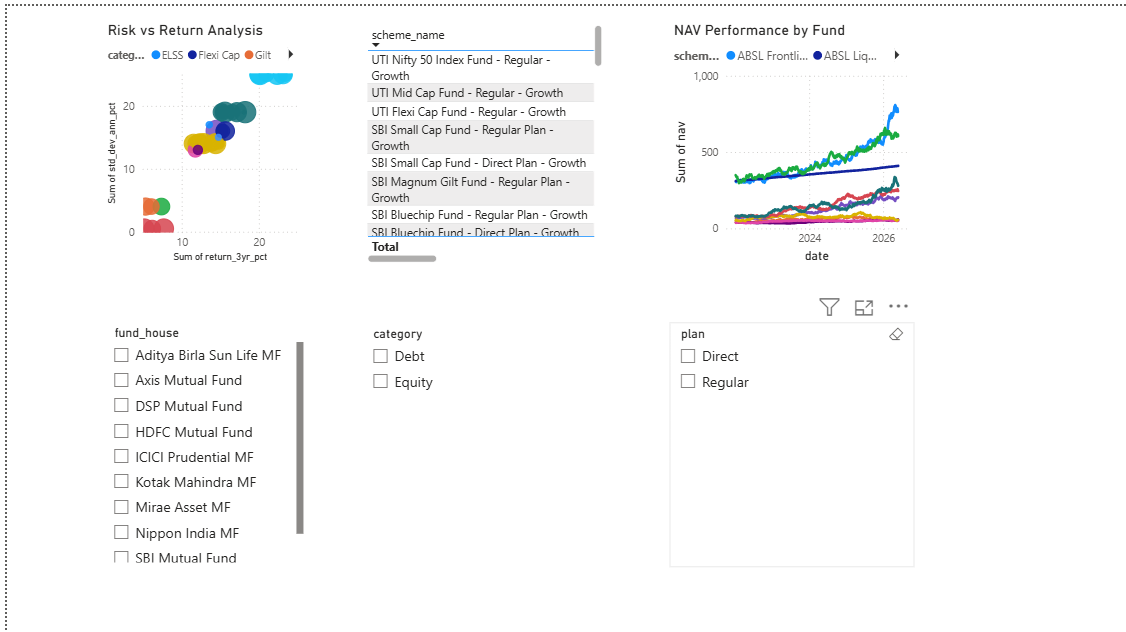

Layout of this report page (visuals, bound fields, positions):
{"tool":"powerbi","page":{"name":"Fund Performance","canvas":[1280,720],"ordinal":1},"visuals":[{"type":"tableEx","fields":{"Values":["07_scheme_performance_clean.scheme_name","07_scheme_performance_clean.fund_house","Sum(fund_scorecard.cagr_pct)","Sum(fund_scorecard.sharpe_ratio)","Sum(fund_scorecard.alpha)","Sum(fund_scorecard.fund_score)"]},"box":[406.1,17.7,279.6,280.8],"z":0},{"type":"lineChart","title":"NAV Performance by Fund","fields":{"Category":["02_nav_history_clean.date"],"Y":["Sum(02_nav_history_clean.nav)"],"Series":["07_scheme_performance_clean.scheme_name"]},"box":[756.5,17.7,279.6,280.8],"z":1000},{"type":"scatterChart","title":"Risk vs Return Analysis","fields":{"X":["Sum(07_scheme_performance_clean.return_3yr_pct)"],"Y":["Sum(07_scheme_performance_clean.std_dev_ann_pct)"],"Size":["Sum(07_scheme_performance_clean.aum_crore)"],"Series":["07_scheme_performance_clean.category"],"Category":["07_scheme_performance_clean.scheme_name"]},"box":[110.1,17.7,234,280.8],"z":2000},{"type":"slicer","fields":{"Values":["01_fund_master.fund_house"]},"box":[110.1,360.5,234,280.8],"z":3000},{"type":"slicer","fields":{"Values":["01_fund_master.category"]},"box":[406,361,280,281],"z":4000},{"type":"slicer","fields":{"Values":["01_fund_master.plan"]},"box":[757,361,280,281],"z":5000}]}

Visuals, with their boxes in screenshot pixels (x1, y1, x2, y2), scaled from the page's 1280x720 canvas onto the 1126x632 screenshot:
tableEx - 07_scheme_performance_clean.scheme_name x 07_scheme_performance_clean.fund_house: l=357, t=16, r=603, b=262
"NAV Performance by Fund" lineChart: l=665, t=16, r=911, b=262
"Risk vs Return Analysis" scatterChart: l=97, t=16, r=303, b=262
slicer - 01_fund_master.fund_house: l=97, t=316, r=303, b=563
slicer - 01_fund_master.category: l=357, t=317, r=603, b=564
slicer - 01_fund_master.plan: l=666, t=317, r=912, b=564
